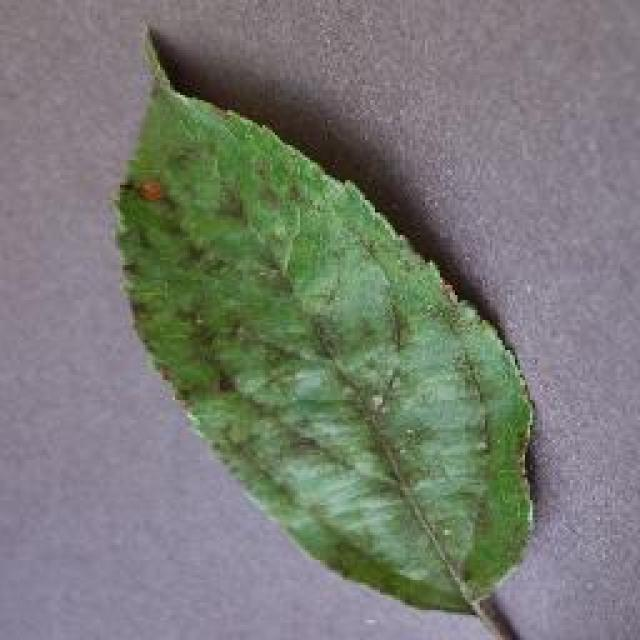apple scab disease: (108, 20, 540, 620)
